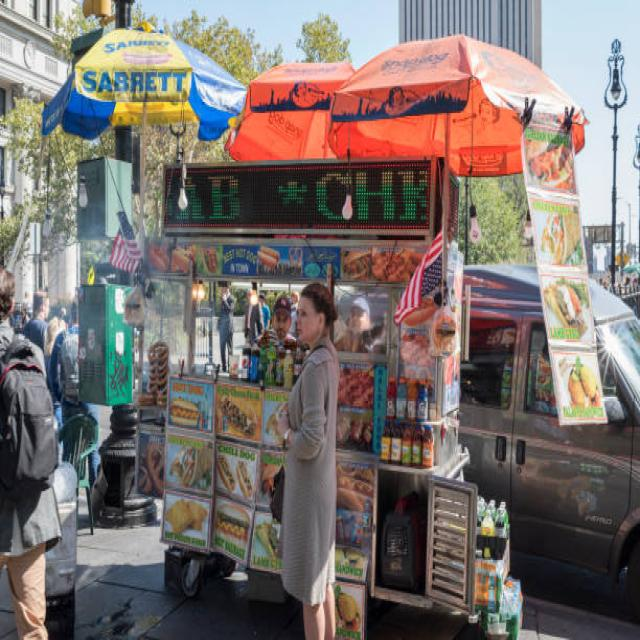Emperan: (57, 19, 610, 640)
